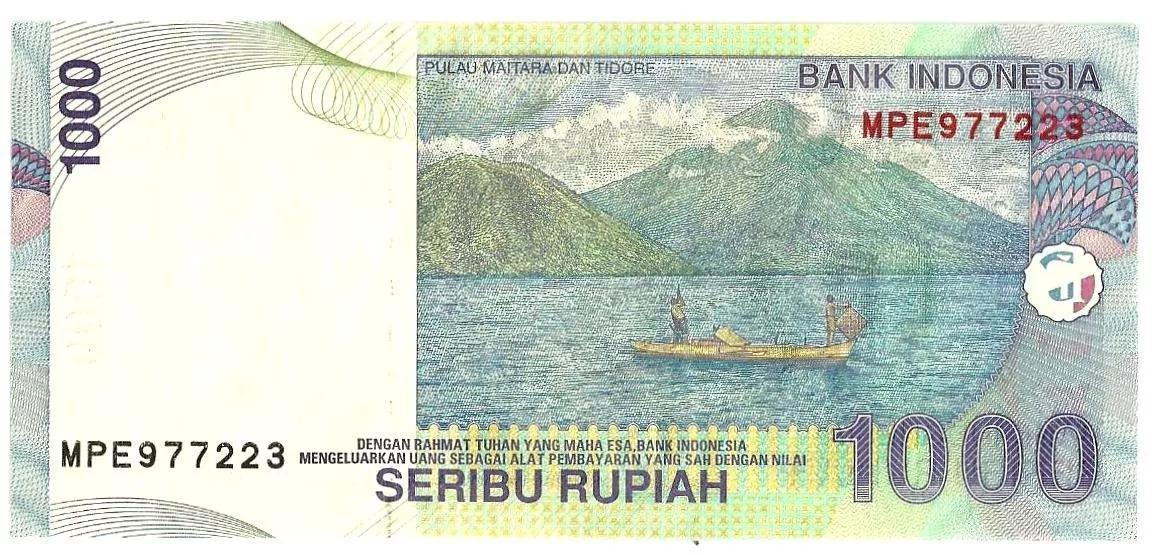1000IndonesianRupiah: (10, 12, 1134, 540)
